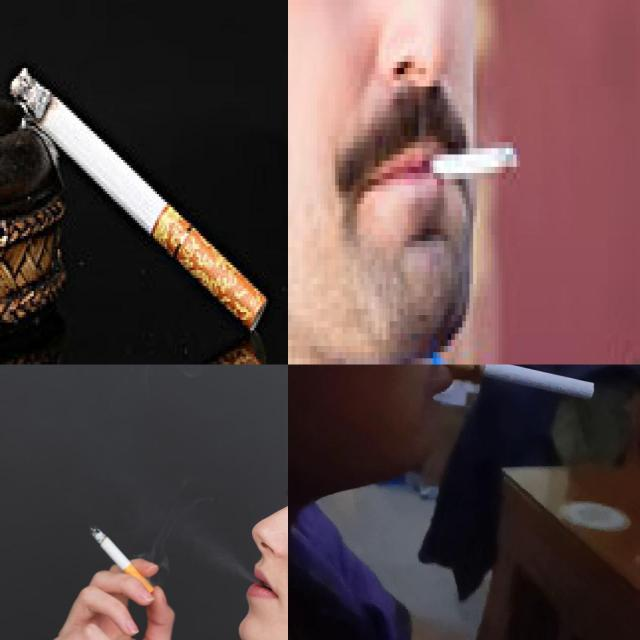smoking: (10, 64, 269, 330), (438, 364, 598, 402), (91, 528, 155, 594), (426, 136, 513, 173)
